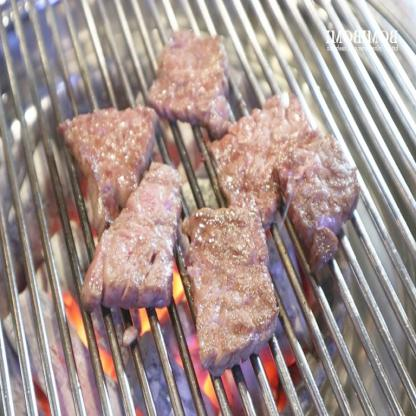Carne: (74, 157, 178, 307), (221, 101, 348, 223), (194, 192, 274, 367), (63, 105, 152, 210), (141, 26, 230, 122)
